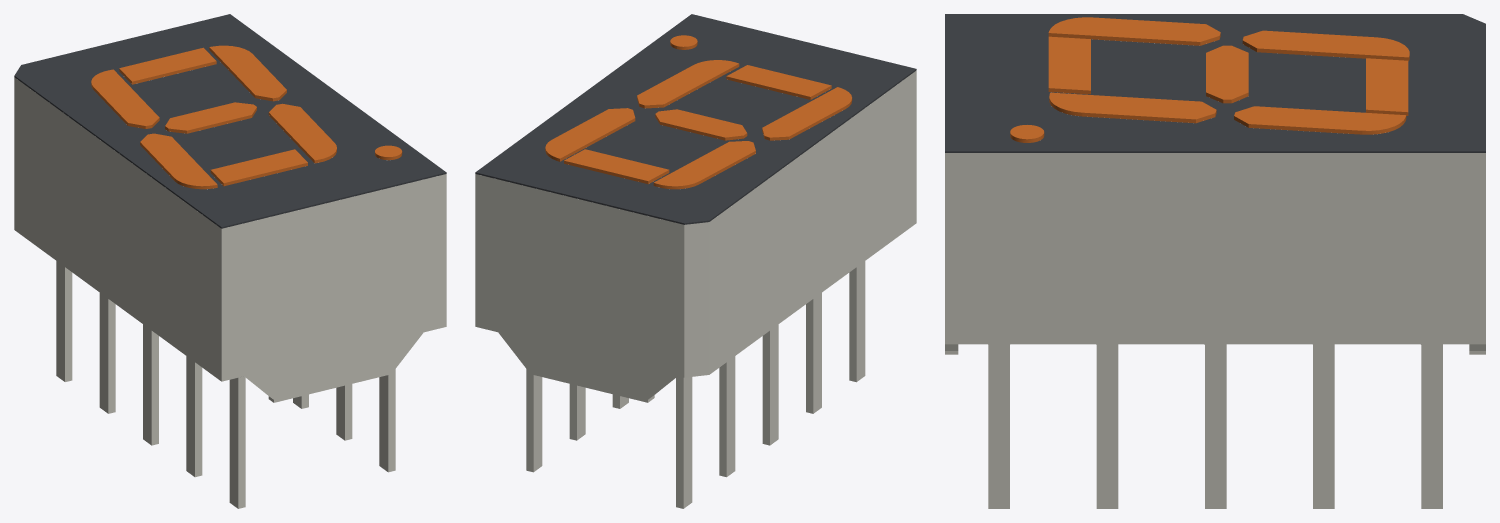
Rendered from kc-hdsp-a401.glb.
The picture shows the model from 3 angles, left to right: view 1: azimuth 30°, elevation 25°; view 2: azimuth 150°, elevation 25°; view 3: azimuth 270°, elevation 25°; orthographic projection. The views are drawn at different scales.
Parts seen in each view (by area): view 1: 0.6666666666666666_0.6666666666666666_0.5833333333333334_0.8, 0.08333333333333333_0.08333333333333333_0.08333333333333333_, 0.5833333333333334_0.16666666666666666_0_0; view 2: 0.6666666666666666_0.6666666666666666_0.5833333333333334_0.8, 0.08333333333333333_0.08333333333333333_0.08333333333333333_, 0.5833333333333334_0.16666666666666666_0_0; view 3: 0.6666666666666666_0.6666666666666666_0.5833333333333334_0.8, 0.08333333333333333_0.08333333333333333_0.08333333333333333_, 0.5833333333333334_0.16666666666666666_0_0.
Boxes of the visible parts, x1,y1,x2,y2 form: 0.6666666666666666_0.6666666666666666_0.5833333333333334_0.8: [14, 77, 446, 508]; 0.08333333333333333_0.08333333333333333_0.08333333333333333_: [14, 14, 446, 228]; 0.5833333333333334_0.16666666666666666_0_0: [91, 45, 402, 189]; 0.6666666666666666_0.6666666666666666_0.5833333333333334_0.8: [475, 70, 916, 508]; 0.08333333333333333_0.08333333333333333_0.08333333333333333_: [475, 14, 916, 224]; 0.5833333333333334_0.16666666666666666_0_0: [545, 35, 852, 189]; 0.6666666666666666_0.6666666666666666_0.5833333333333334_0.8: [945, 153, 1485, 508]; 0.08333333333333333_0.08333333333333333_0.08333333333333333_: [945, 14, 1485, 152]; 0.5833333333333334_0.16666666666666666_0_0: [1010, 17, 1409, 142].
Size of the model in its own units: 0.7621 by 0.99 by 1.27.
